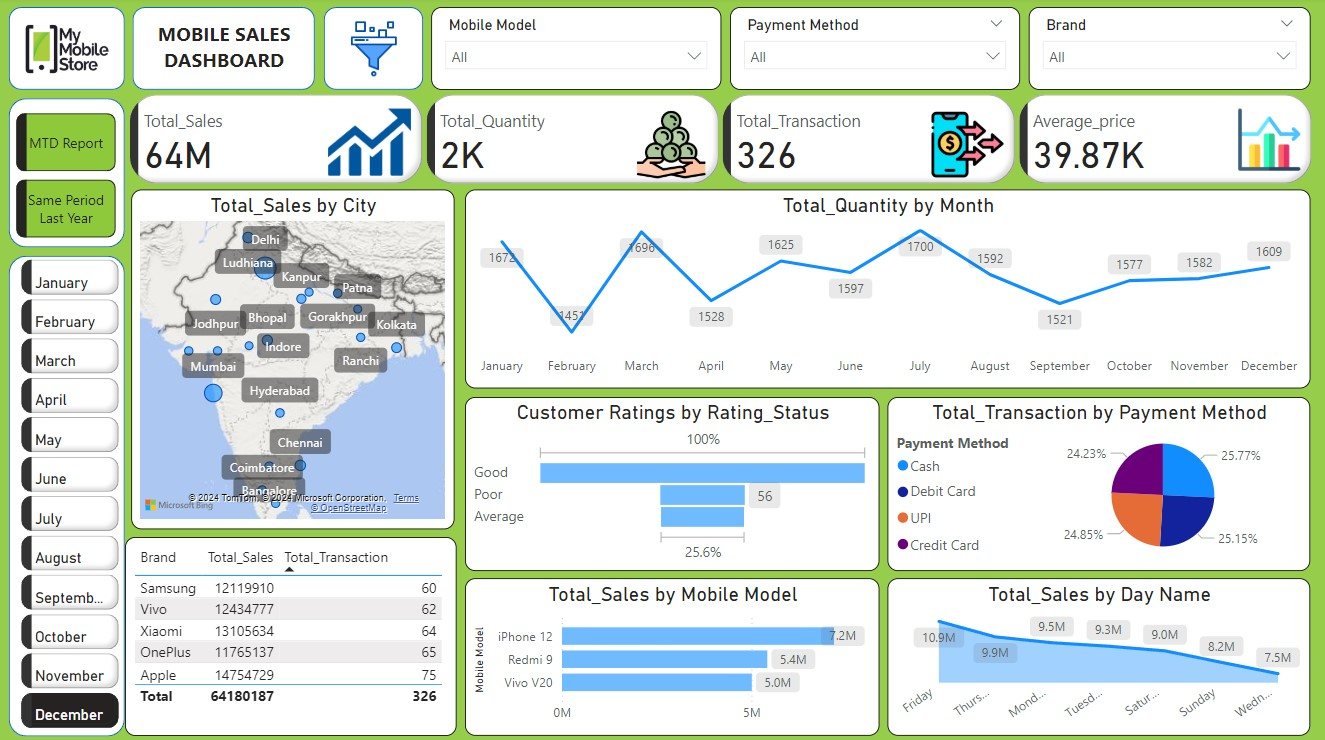

Layout of this report page (visuals, bound fields, positions):
{"tool":"powerbi","page":{"name":"Dashboard","canvas":[1280,720],"ordinal":0},"visuals":[{"type":"shape","box":[8.5,9.6,112,80],"z":0},{"type":"image","box":[16.5,1.6,96,96],"z":1000},{"type":"shape","box":[8.5,97.6,112,144],"z":2000},{"type":"shape","box":[8.5,249.6,112,464],"z":3000},{"type":"advancedSlicerVisual","fields":{"Values":["Custom_Calender.Date.Variation.Date Hierarchy.Month"]},"box":[16,248,104,464],"z":4000},{"type":"cardVisual","fields":{"Data":["Mobile_Sales_Data.Total_Sales","Mobile_Sales_Data.Total_Quantity","Mobile_Sales_Data.Total_Transaction","Mobile_Sales_Data.Average_price"]},"box":[120.5,89.6,1152,96],"z":5000},{"type":"slicer","fields":{"Values":["Mobile_Sales_Data.Mobile Model"]},"box":[416.5,9.6,280,80],"z":6000},{"type":"slicer","fields":{"Values":["Mobile_Sales_Data.Payment Method"]},"box":[704.5,9.6,280,80],"z":7000},{"type":"slicer","fields":{"Values":["Mobile_Sales_Data.Brand"]},"box":[992.5,9.6,272,80],"z":8000},{"type":"shape","box":[312.5,9.6,96,80],"z":9000},{"type":"shape","box":[128.5,9.6,176,80],"z":10000},{"type":"image","box":[296.5,17.6,128,64],"z":11000},{"type":"textbox","box":[136.5,17.6,160,64],"z":12000},{"type":"map","fields":{"Category":["Mobile_Sales_Data.City"],"Size":["Mobile_Sales_Data.Total_Sales"]},"box":[126.2,185.6,312,328],"z":13000},{"type":"lineChart","fields":{"Category":["Custom_Calender.Date.Variation.Date Hierarchy.Month","Custom_Calender.Date.Variation.Date Hierarchy.Day"],"Y":["Mobile_Sales_Data.Total_Quantity"]},"box":[448.5,185.6,816,192],"z":14000},{"type":"funnel","title":"Customer Ratings by Rating_Status","fields":{"Category":["Mobile_Sales_Data.Rating_Status"],"Y":["CountNonNull(Mobile_Sales_Data.Customer Ratings)"]},"box":[448.5,385.6,400,168],"z":15000},{"type":"pieChart","fields":{"Category":["Mobile_Sales_Data.Payment Method"],"Y":["Mobile_Sales_Data.Total_Transaction"]},"box":[856.5,385.6,408,168],"z":16000},{"type":"clusteredBarChart","fields":{"Y":["Mobile_Sales_Data.Total_Sales"],"Category":["Mobile_Sales_Data.Mobile Model"]},"box":[448.5,561.6,400,152],"z":17000},{"type":"areaChart","fields":{"Category":["Custom_Calender.Day Name"],"Y":["Mobile_Sales_Data.Total_Sales"]},"box":[856.5,561.6,408,152],"z":18000},{"type":"tableEx","fields":{"Values":["Mobile_Sales_Data.Brand","Mobile_Sales_Data.Total_Sales","Mobile_Sales_Data.Total_Transaction"]},"box":[120.5,521.6,320,192],"z":19000},{"type":"pageNavigator","box":[16,112,96,120],"z":20000}]}

Visuals, with their boxes in screenshot pixels (x1, y1, x2, y2), scaled from the page's 1280x720 canvas onto the 1325x740 screenshot:
shape: [9,10,125,92]
image: [17,2,116,100]
shape: [9,100,125,248]
shape: [9,257,125,733]
advancedSlicerVisual - Custom_Calender.Date.Variation.Date Hierarchy.Month: [17,255,124,732]
cardVisual - Mobile_Sales_Data.Total_Sales x Mobile_Sales_Data.Total_Quantity: [125,92,1317,191]
slicer - Mobile_Sales_Data.Mobile Model: [431,10,721,92]
slicer - Mobile_Sales_Data.Payment Method: [729,10,1019,92]
slicer - Mobile_Sales_Data.Brand: [1027,10,1309,92]
shape: [323,10,423,92]
shape: [133,10,315,92]
image: [307,18,439,84]
textbox: [141,18,307,84]
map - Mobile_Sales_Data.City x Mobile_Sales_Data.Total_Sales: [131,191,454,528]
lineChart - Custom_Calender.Date.Variation.Date Hierarchy.Month x Custom_Calender.Date.Variation.Date Hierarchy.Day: [464,191,1309,388]
"Customer Ratings by Rating_Status" funnel: [464,396,878,569]
pieChart - Mobile_Sales_Data.Payment Method x Mobile_Sales_Data.Total_Transaction: [887,396,1309,569]
clusteredBarChart - Mobile_Sales_Data.Total_Sales x Mobile_Sales_Data.Mobile Model: [464,577,878,733]
areaChart - Custom_Calender.Day Name x Mobile_Sales_Data.Total_Sales: [887,577,1309,733]
tableEx - Mobile_Sales_Data.Brand x Mobile_Sales_Data.Total_Sales: [125,536,456,733]
pageNavigator: [17,115,116,238]
